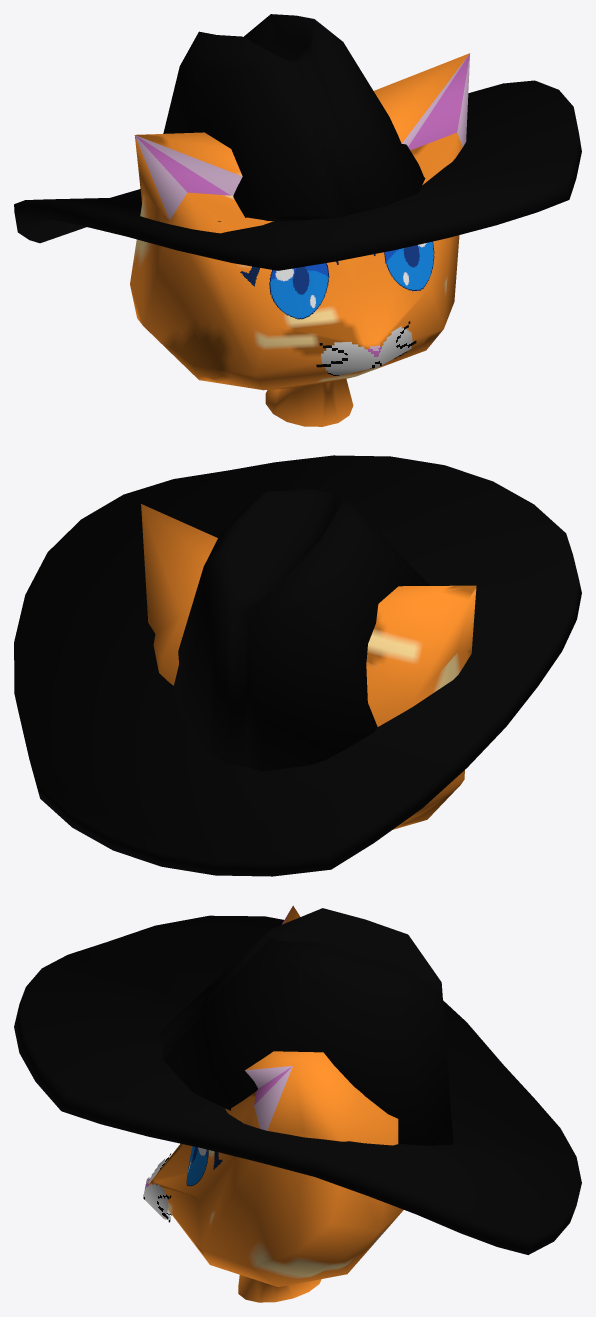
File: CabezaGata.fbx
The picture shows the model from 3 angles, top to bottom: view 1: azimuth 30°, elevation 25°; view 2: azimuth 150°, elevation 25°; view 3: azimuth 270°, elevation 25°; orthographic projection. The views are drawn at different scales.
Parts seen in each view (by area): view 1: Cara; view 2: Cara; view 3: Cara.
Part boxes in pixels (left/top/right/bottom): Cara: left=14, top=14, right=581, bottom=426; Cara: left=14, top=455, right=581, bottom=876; Cara: left=14, top=905, right=581, bottom=1302.
Size of the model in its own units: 290 by 298 by 209.
Materials: 4 (3 with a texture image).
